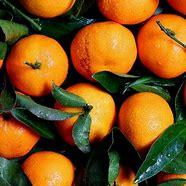orange: (52, 21, 129, 72), (11, 37, 72, 93), (48, 80, 104, 130), (0, 108, 51, 160), (142, 22, 186, 80), (119, 90, 163, 143), (21, 146, 70, 186), (89, 2, 169, 26)
